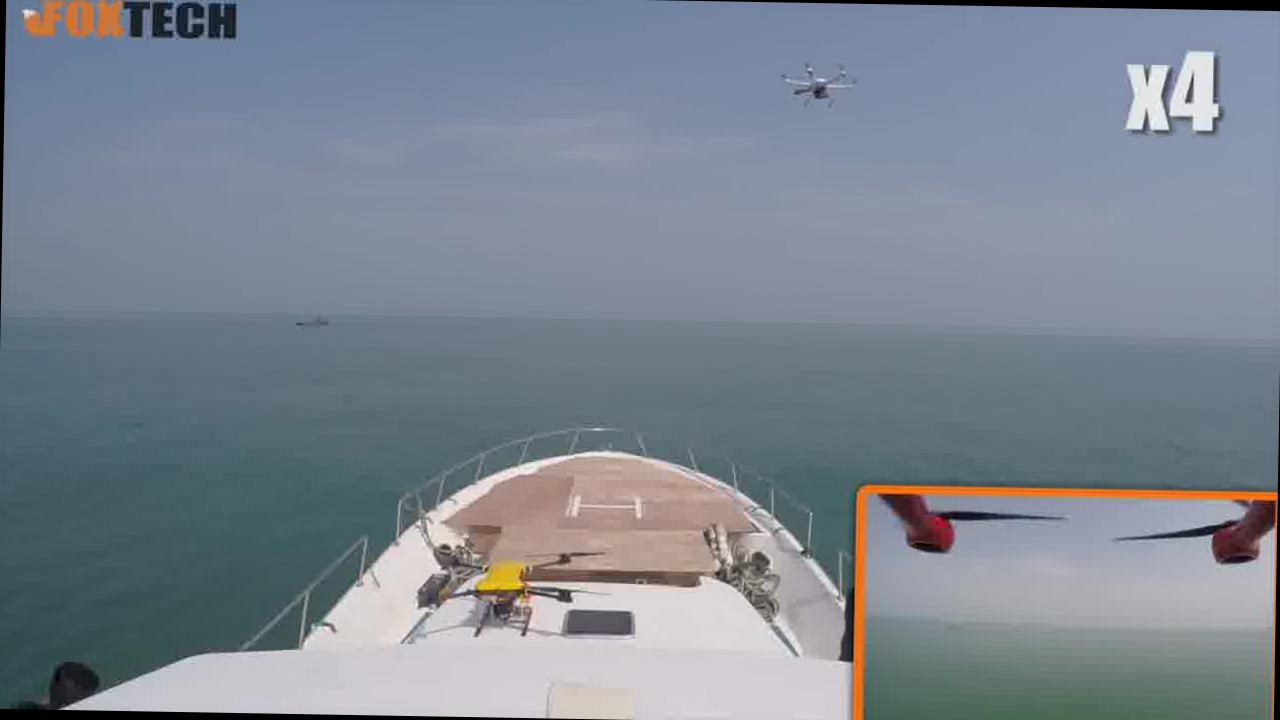drone: (400, 520, 621, 640), (758, 58, 873, 129)
